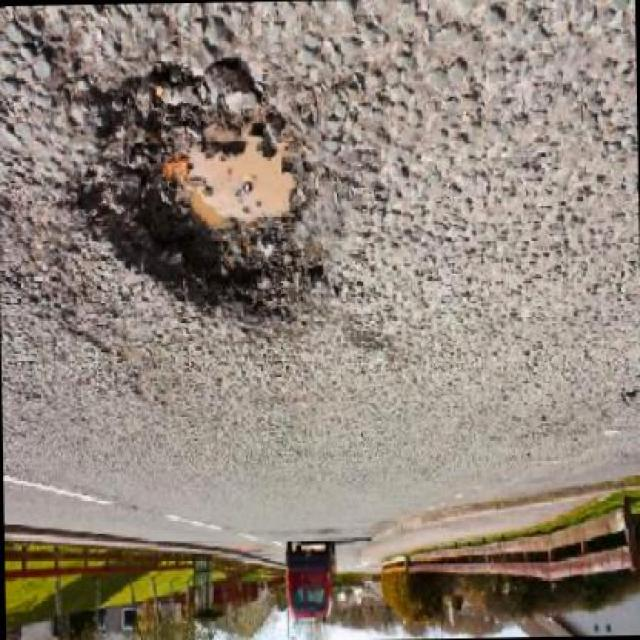pothole1: (72, 44, 343, 330)
